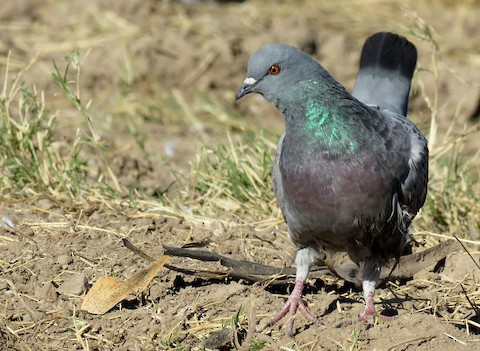pigeon: (232, 27, 431, 330)
